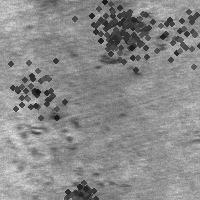rolled-in_scale: (13, 109, 125, 191), (83, 0, 177, 81), (0, 45, 78, 131), (136, 0, 200, 89), (91, 12, 169, 70), (81, 0, 149, 59), (58, 172, 98, 200)
